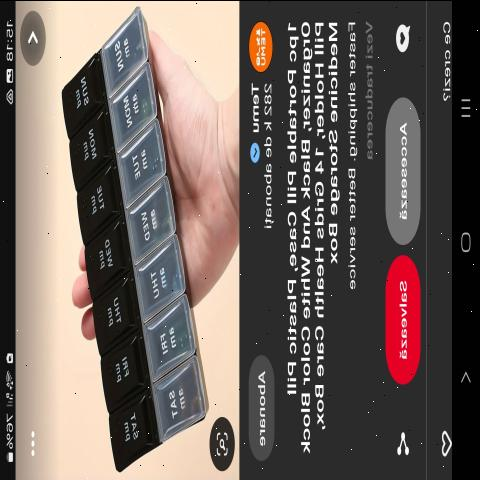PillBox: (47, 13, 226, 473)
